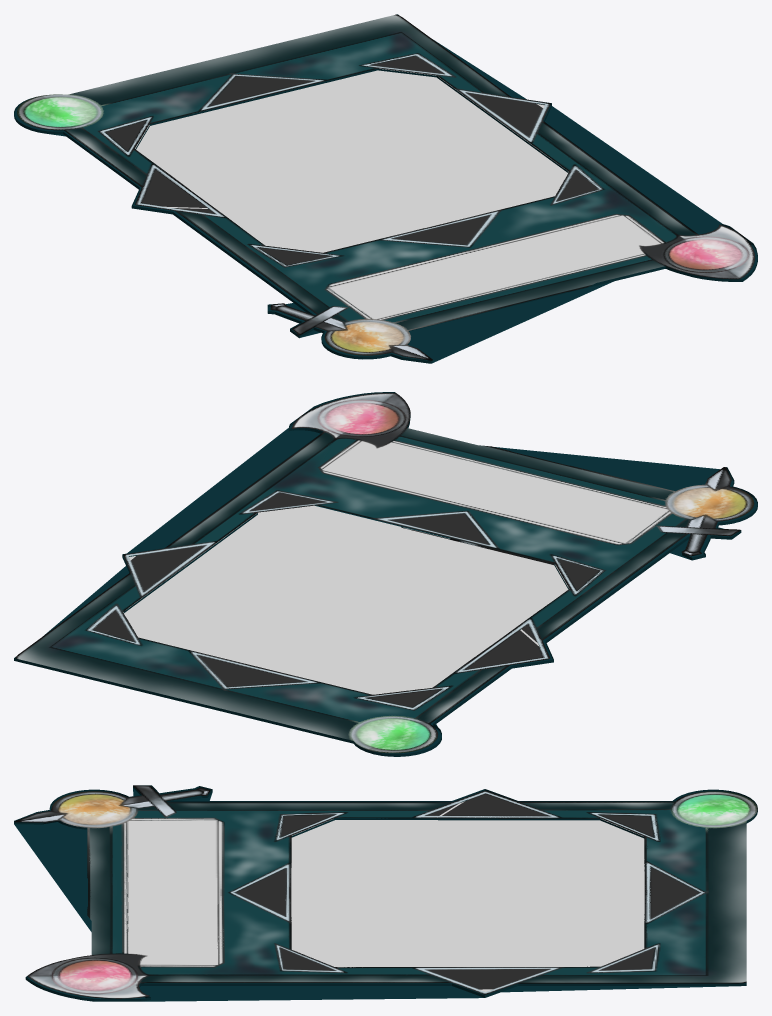
The model's file is CardTemplate3Dfbx.fbx.
The picture shows the model from 3 angles, top to bottom: view 1: azimuth 30°, elevation 25°; view 2: azimuth 150°, elevation 25°; view 3: azimuth 270°, elevation 25°; orthographic projection. The views are drawn at different scales.
Parts seen in each view (by area): view 1: Cube.007; view 2: Cube.007; view 3: Cube.007.
Part boxes in pixels (x1,y1,x2,y2): Cube.007: (14,14,757,363); Cube.007: (14,392,757,756); Cube.007: (14,785,757,1001).
Size of the model in its own units: 340 by 2 by 500.
